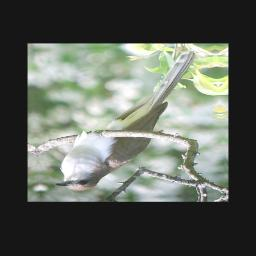Cuckoo: (43, 49, 211, 192)
